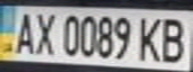0: (57, 10, 81, 57), (78, 11, 96, 58)
8: (96, 12, 115, 60)
9: (112, 12, 136, 61)
A: (9, 8, 39, 55)
B: (157, 13, 190, 64)
K: (133, 14, 166, 63)
X: (30, 9, 57, 56)
